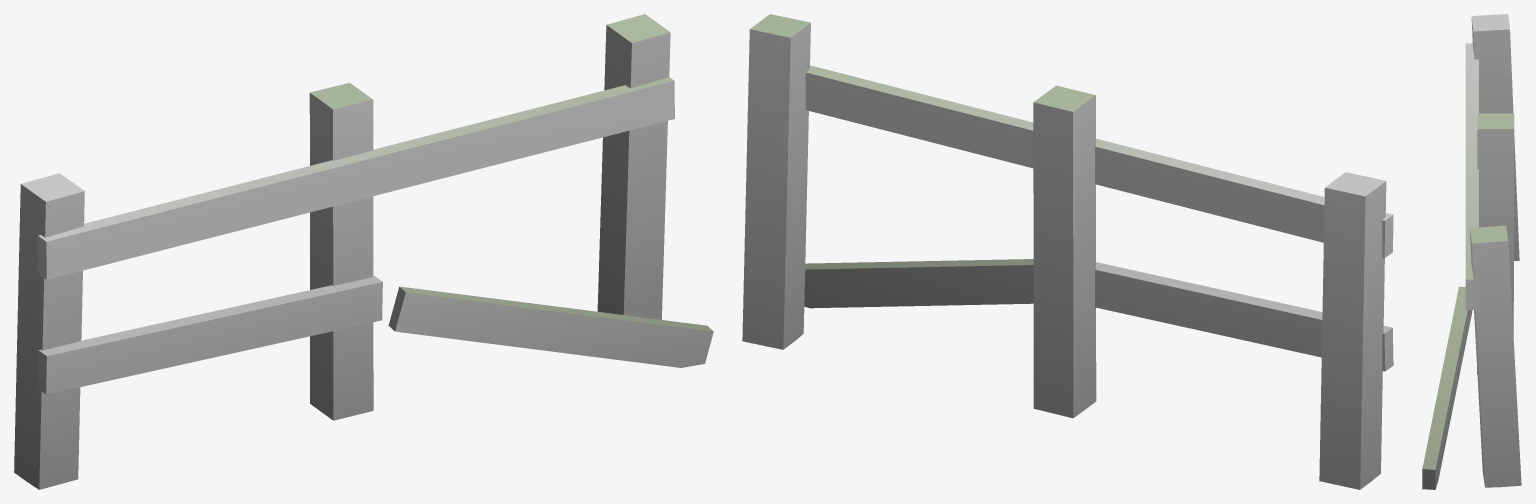
File: fence.glb
The picture shows the model from 3 angles, left to right: view 1: azimuth 30°, elevation 25°; view 2: azimuth 150°, elevation 25°; view 3: azimuth 270°, elevation 25°; orthographic projection. The views are drawn at different scales.
Visible parts, largest first — view 1: fence; view 2: fence; view 3: fence.
Boxes of the visible parts, x1,y1,x2,y2 form: fence: [14, 14, 713, 489]; fence: [742, 14, 1393, 489]; fence: [1422, 14, 1521, 489].
Size of the model in its own units: 1.76 by 0.8146 by 0.298.
